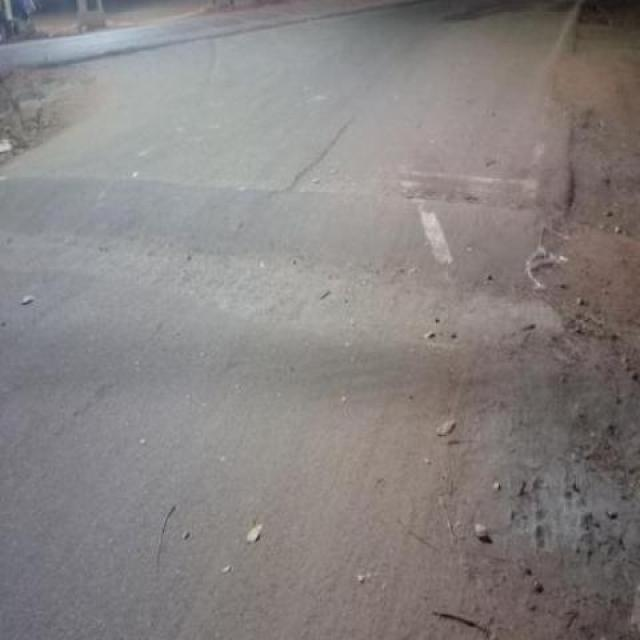Unmarked Bump: (0, 278, 569, 421), (0, 169, 568, 303)
